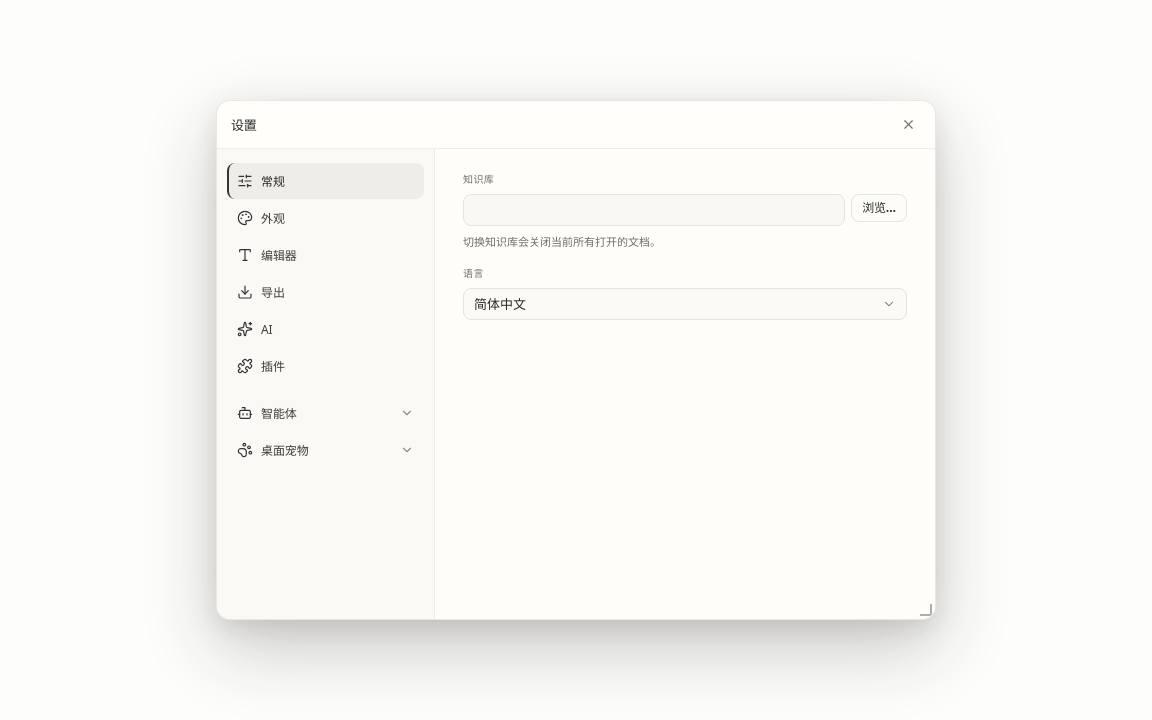
SettingsPanel color scheme picker › renders one labelled, selectable preview card per scheme
The image size is (1152, 720).
Click the tab with class "nav-row" showing "外观" at (326, 218), box [227,200,424,236]
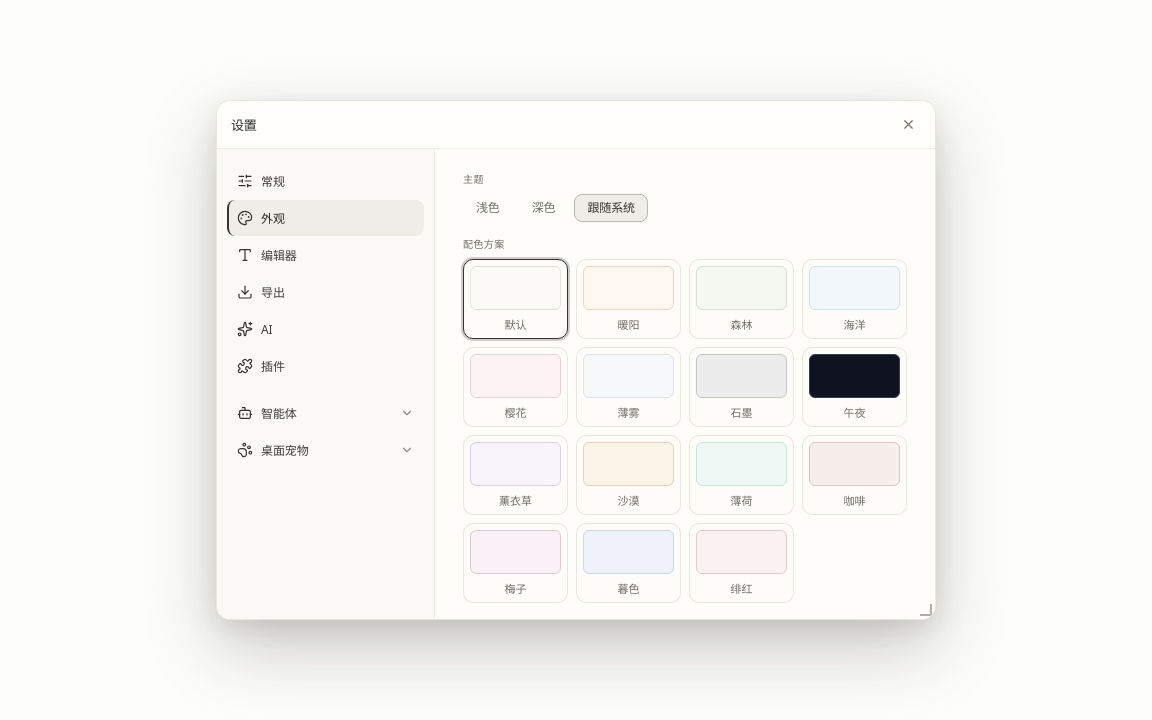
Now the number of radio buttons with class "color-scheme-card" is 15
Now the 1st element with class "color-scheme-preview" is shown, box [470,266,561,310]
Now the 2nd element with class "color-scheme-preview" is shown, box [583,266,674,310]
